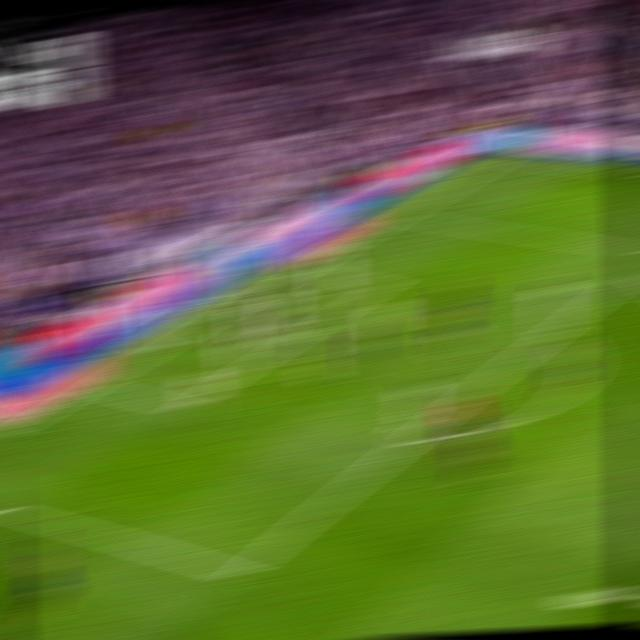bigarea_bottom_inner: (222, 558, 258, 590)
bigarea_top_outter: (388, 210, 416, 221)
bottom_arc_area_intersection: (400, 432, 430, 444)
corner: (488, 154, 519, 164)
smallarea_bottom_inner: (169, 398, 199, 416)
smallarea_bottom_outter: (80, 379, 109, 393)
smallarea_top_inner: (369, 278, 396, 293)
top_arc_area_intersection: (543, 320, 573, 337)
